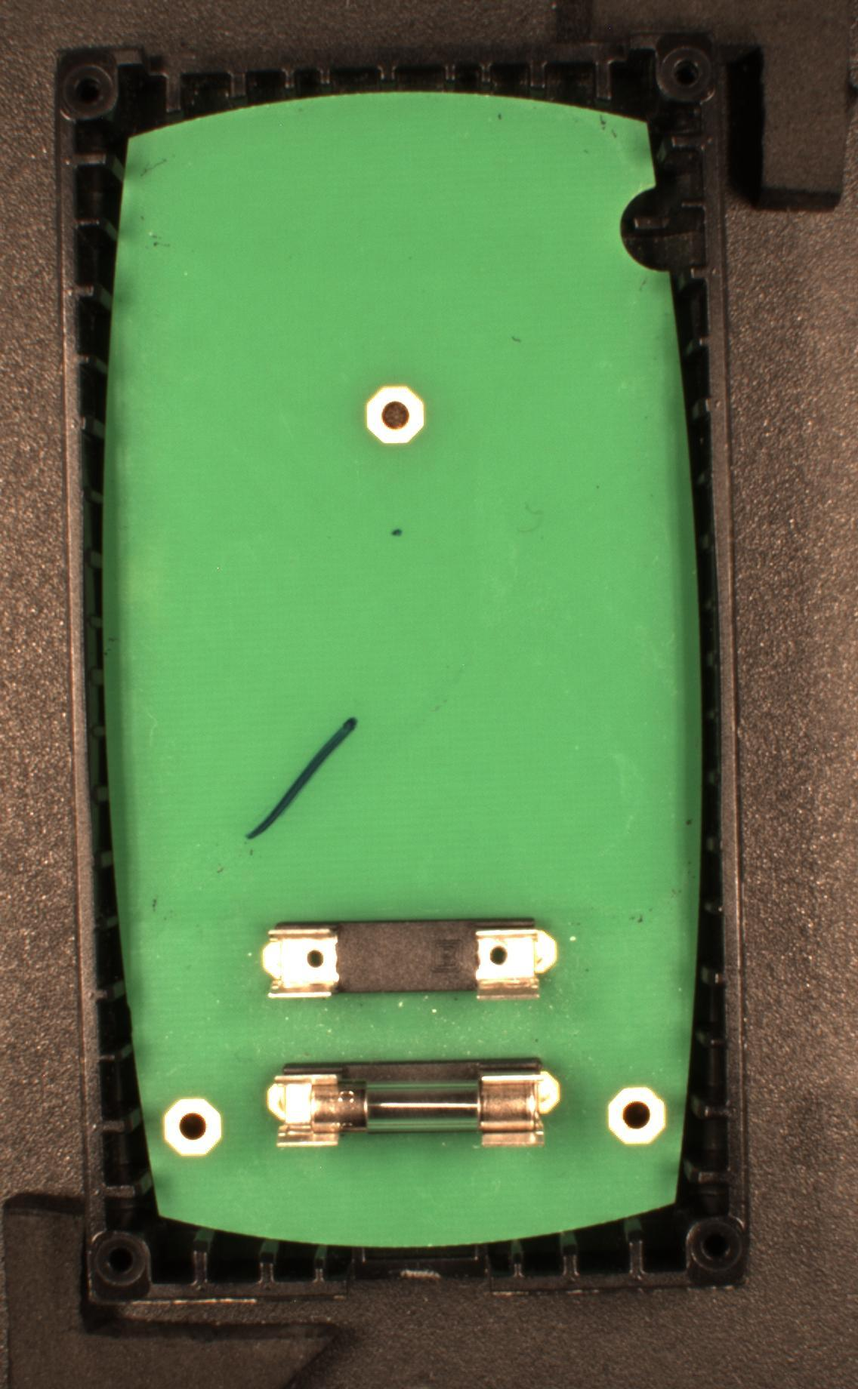Linijsko Ostecene: (240, 715, 362, 841)
Nepostojanje osiguraca: (260, 917, 559, 1004)
Tockasto Ostecenje: (388, 524, 408, 542)
